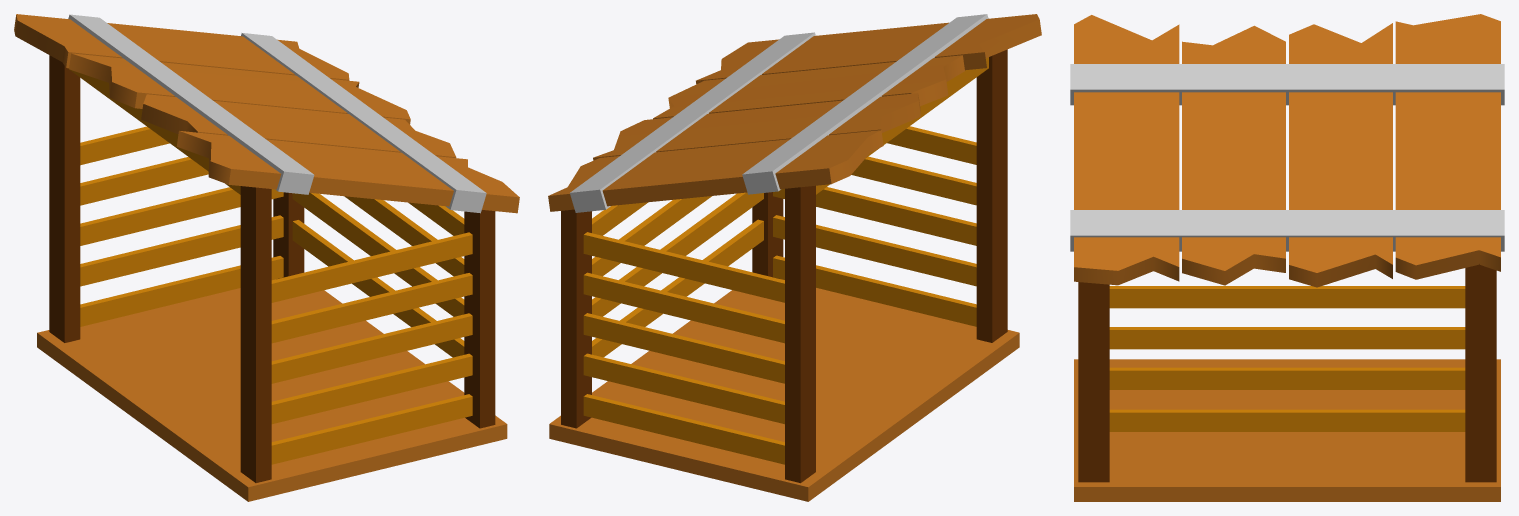
Rendered from Rock_Storage.FBX.
3 views of the same model, side by side, from view 1: azimuth 30°, elevation 25°; view 2: azimuth 150°, elevation 25°; view 3: azimuth 270°, elevation 25° (orthographic).
Visible parts, largest first — view 1: Box005; view 2: Box005; view 3: Box005.
Part boxes in pixels (<box>): Box005: <box>14,14,519,501</box>; Box005: <box>548,14,1041,501</box>; Box005: <box>1070,14,1504,501</box>.
Size of the model in its own units: 255 by 268 by 305.
